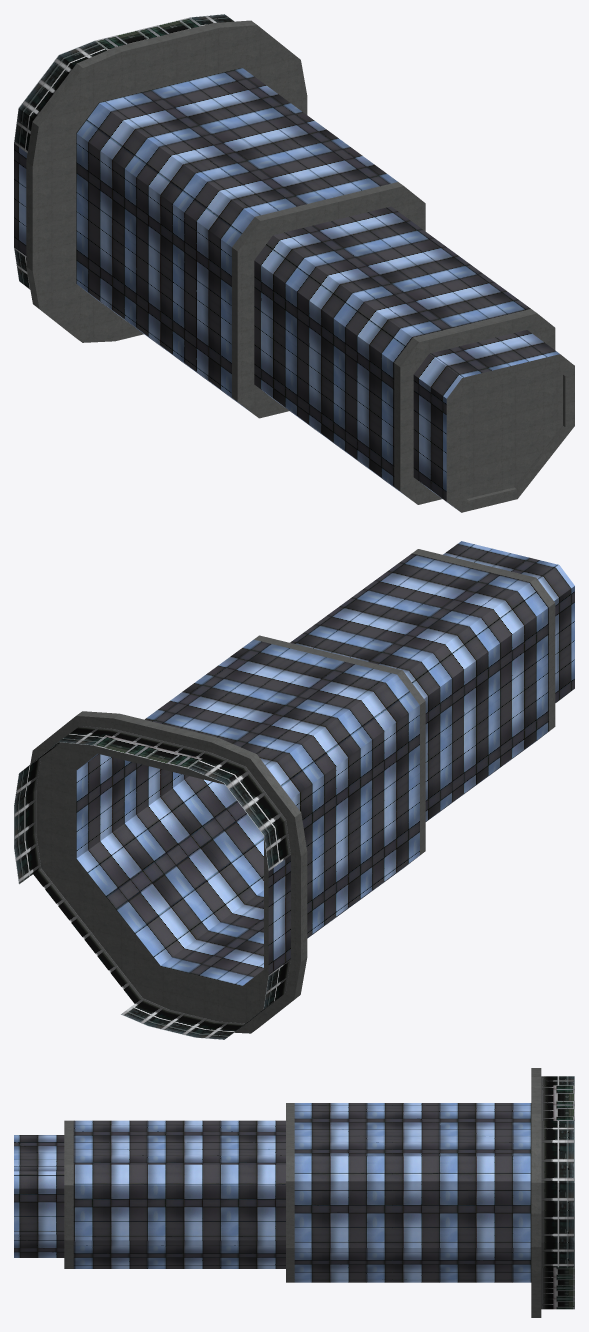
Rendered from skyscraper_windowE_01.obj.
3 renders of one model, top to bottom at view 1: azimuth 30°, elevation 25°; view 2: azimuth 150°, elevation 25°; view 3: azimuth 270°, elevation 25°, orthographic. The views are drawn at different scales.
Parts seen in each view (by area): view 1: Zone_4x4_SeaWall_C_10; view 2: Zone_4x4_SeaWall_C_10; view 3: Zone_4x4_SeaWall_C_10.
Boxes of the visible parts, box(x1,y1,x2,y2) form: Zone_4x4_SeaWall_C_10: box(14, 14, 574, 512); Zone_4x4_SeaWall_C_10: box(14, 541, 574, 1039); Zone_4x4_SeaWall_C_10: box(14, 1068, 574, 1317).
Bounding box in the file's own units: 52.71 × 52.84 × 123.
4 materials, 4 textured.
